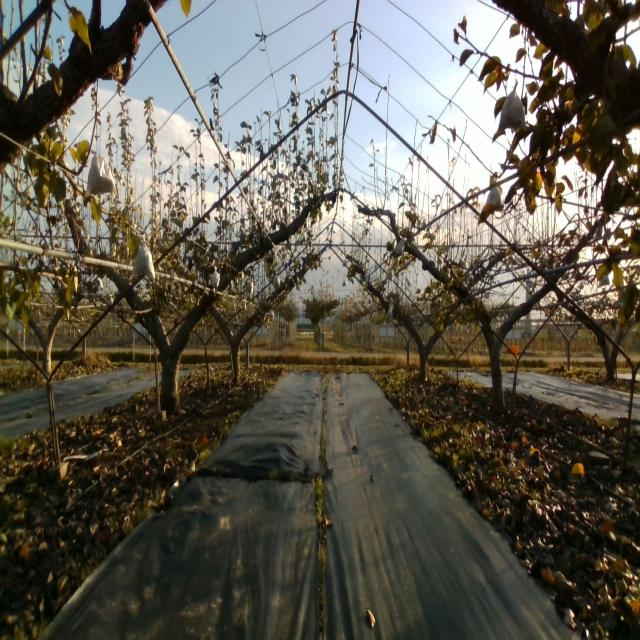pearbags: (497, 79, 527, 134), (86, 147, 116, 198), (132, 236, 156, 281), (485, 188, 503, 208), (395, 238, 405, 256)
